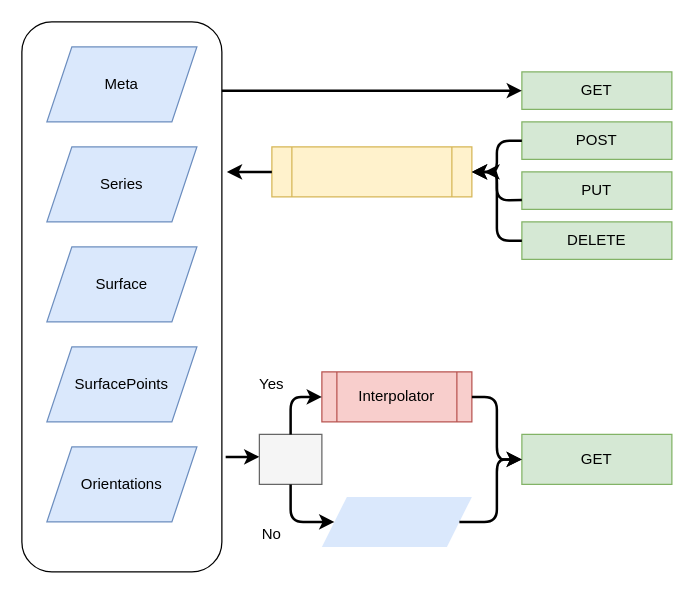
Image size: 694x594. Some labels were removed from this diagram. The centre of each missing label's shape, as x and y in pixels:
"Cache" goes at (396,521).
"Did data change?" goes at (290,458).
"Mutator-Functions" goes at (371,171).
